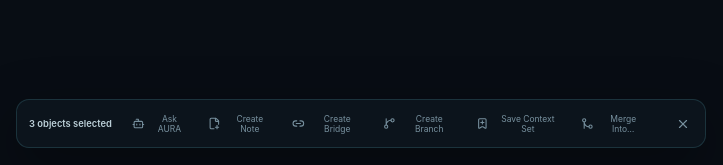
Context Lens actions › counts persisted Research sources, evidence, and claims truthfully in the manifest
Click the button "Ask AURA" at (161, 124), box left=124, top=109, right=198, bottom=138
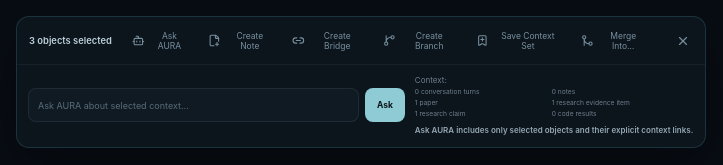
Expected: the text "1 paper" is shown, left=415, top=99, right=438, bottom=107
Expected: the text "1 research evidence item" is shown, left=552, top=99, right=630, bottom=107
Expected: the text "1 research claim" is shown, left=415, top=110, right=466, bottom=118
